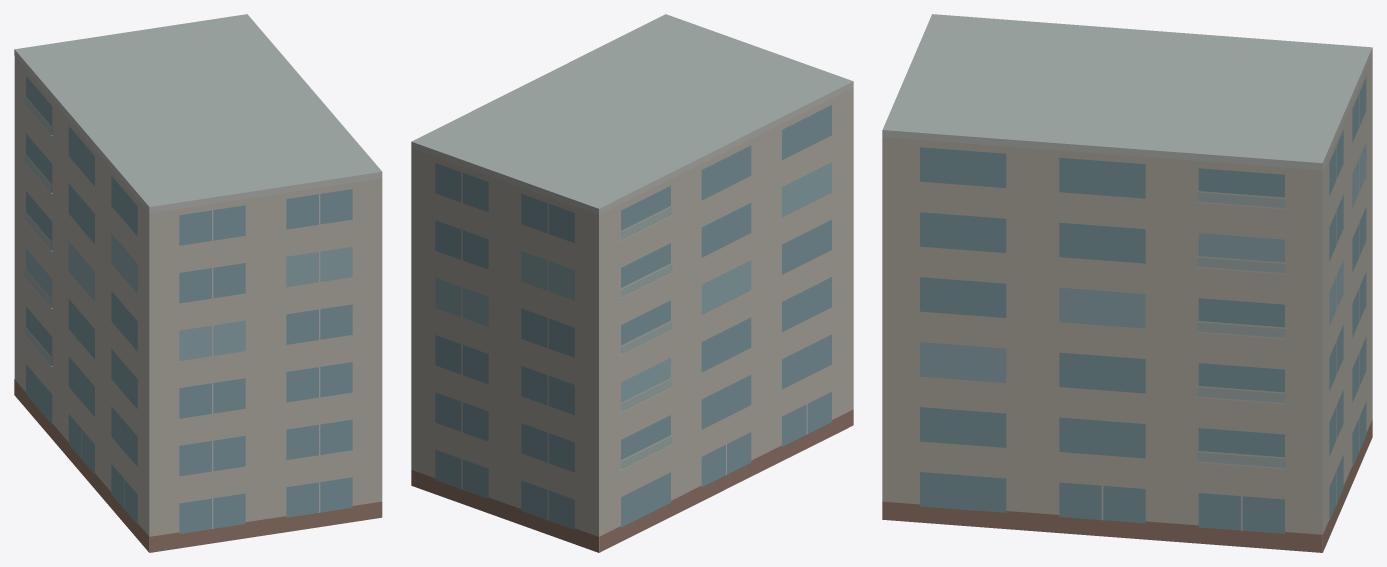
File: survey-upis-32944129.glb
The picture shows the model from 3 angles, left to right: view 1: azimuth 30°, elevation 25°; view 2: azimuth 150°, elevation 25°; view 3: azimuth 270°, elevation 25°; orthographic projection. The views are drawn at different scales.
Parts seen in each view (by area): view 1: survey-upis-32944129.tmp; view 2: survey-upis-32944129.tmp; view 3: survey-upis-32944129.tmp.
Part boxes in pixels (x1,y1,x2,y2): survey-upis-32944129.tmp: (14,14,382,552); survey-upis-32944129.tmp: (411,14,853,552); survey-upis-32944129.tmp: (882,14,1372,552).
Bounding box in the file's own units: 10.85 × 13.2 × 15.06.
